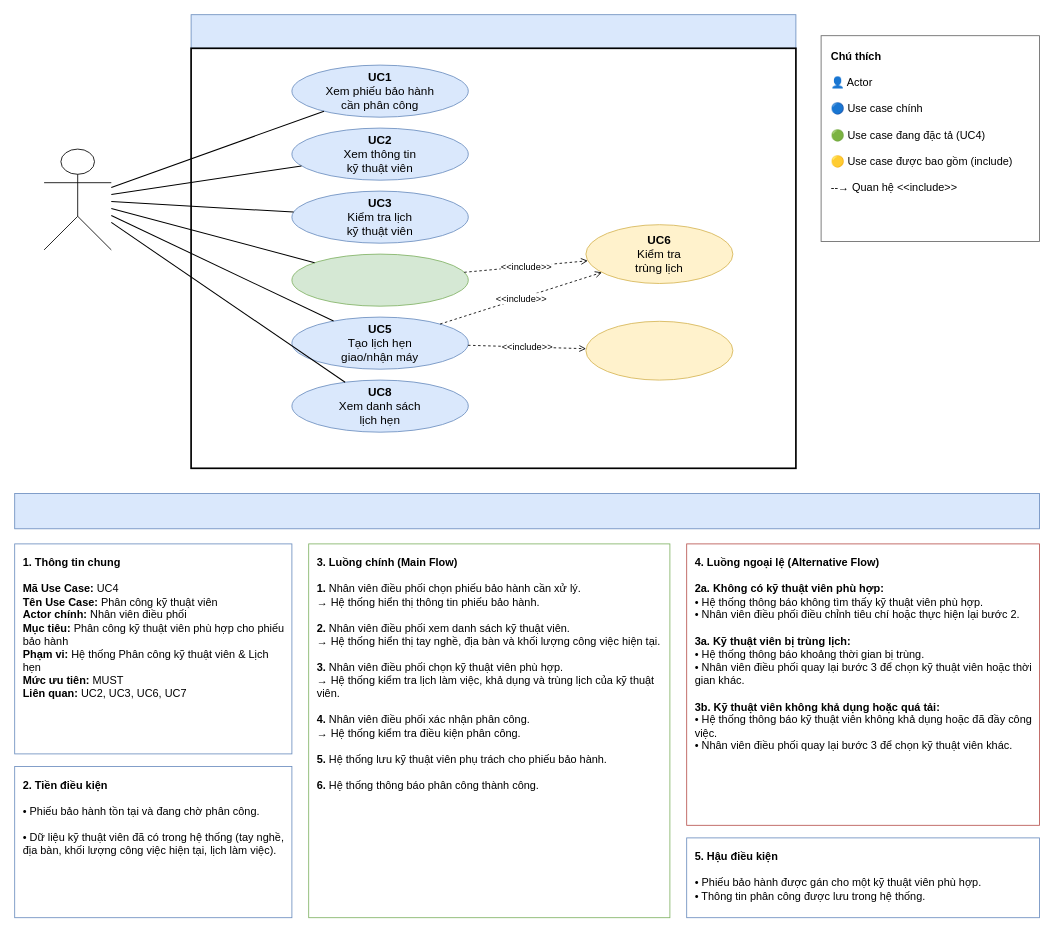
Some shapes in this 1054 by 932 pixel diagram are drawn without their labels. The centre of each missing label's shape, as x and y in pixels:
"HỆ THỐNG PHÂN CÔNG KỸ THUẬT VIÊN & LỊCH HẸN" goes at point (493, 31).
"Nhân viên điều phối" goes at point (77, 199).
"UC4 Phân công kỹ thuật viên" goes at point (379, 279).
"UC7 Xác nhận lịch hẹn" goes at point (659, 350).
"ĐẶC TẢ USE CASE UC4 – PHÂN CÔNG KỸ THUẬT VIÊN" goes at point (527, 511).
